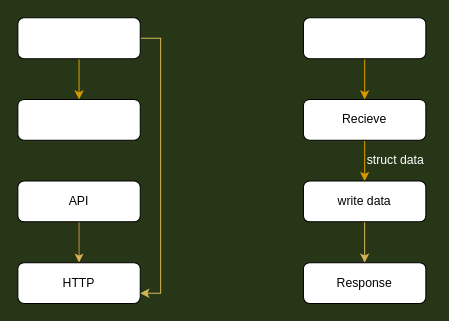
Some shapes in this 449 by 321 pixel diagram are drawn without their labels. Each missing label, with the centre of its shape:
List: [78,119]
Start: [364,38]
